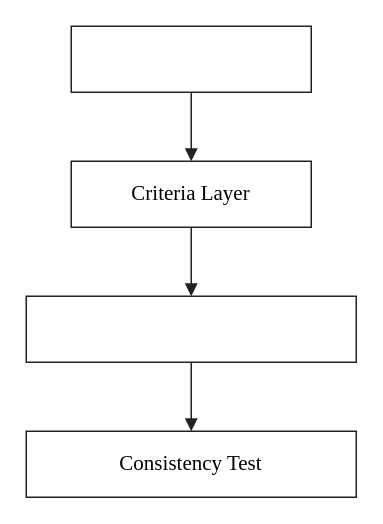
Some shapes in this 383 by 524 pixel diagram are drawn without their labels. The shapes that lost their labels are listed below. From the top down, each one's centre as x and y in pixels, then its label:
the point at 190,58: Goal Layer
the point at 190,328: Pairwise Comparison
